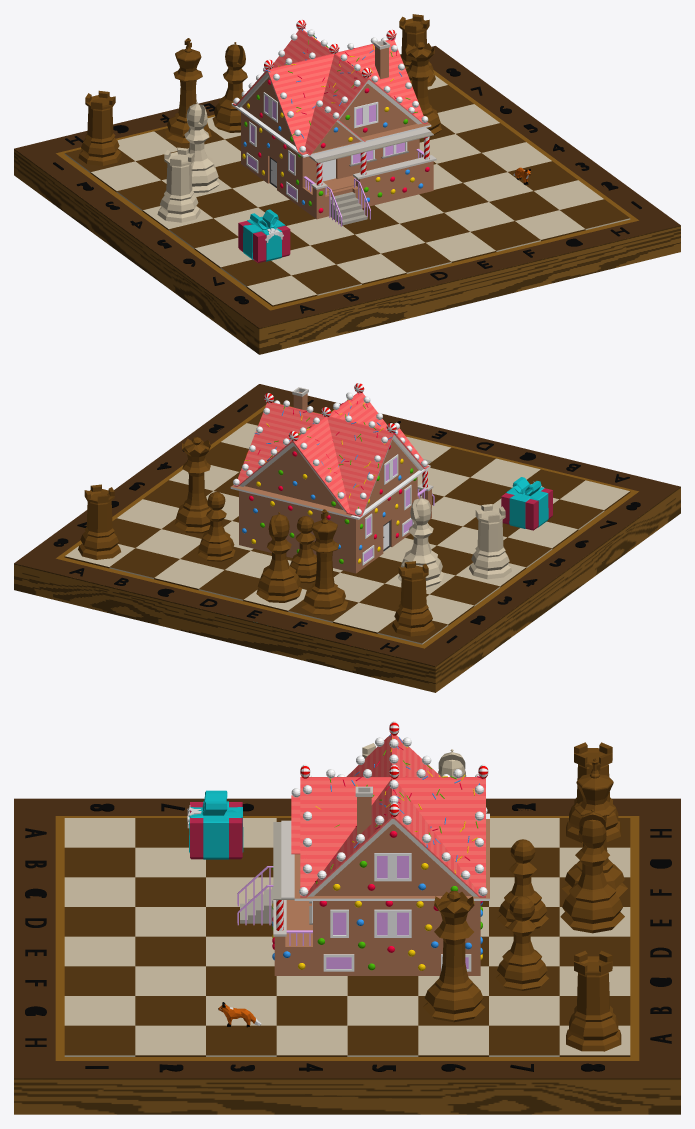
3 views of the same model, one above another, from view 1: azimuth 30°, elevation 25°; view 2: azimuth 150°, elevation 25°; view 3: azimuth 270°, elevation 25° (orthographic). The views are drawn at different scales.
Visible parts, largest first — view 1: Cube.002, Cube.1203, OBJRANDOM_GIANT_PRESENT; view 2: Cube.002, Cube.1203, OBJRANDOM_GIANT_PRESENT; view 3: Cube.002, Cube.1203, OBJRANDOM_GIANT_PRESENT.
Part boxes in pixels (x1,y1,x2,y2): Cube.002: [14, 14, 680, 354]; Cube.1203: [231, 19, 436, 226]; OBJRANDOM_GIANT_PRESENT: [238, 209, 290, 263]; Cube.002: [14, 384, 680, 692]; Cube.1203: [230, 383, 434, 573]; OBJRANDOM_GIANT_PRESENT: [501, 477, 552, 530]; Cube.002: [14, 742, 680, 1114]; Cube.1203: [237, 721, 489, 975]; OBJRANDOM_GIANT_PRESENT: [187, 790, 243, 859].
Bounding box in the file's own units: 3981 × 1464 × 4012.
Materials: 35 (3 with a texture image).
